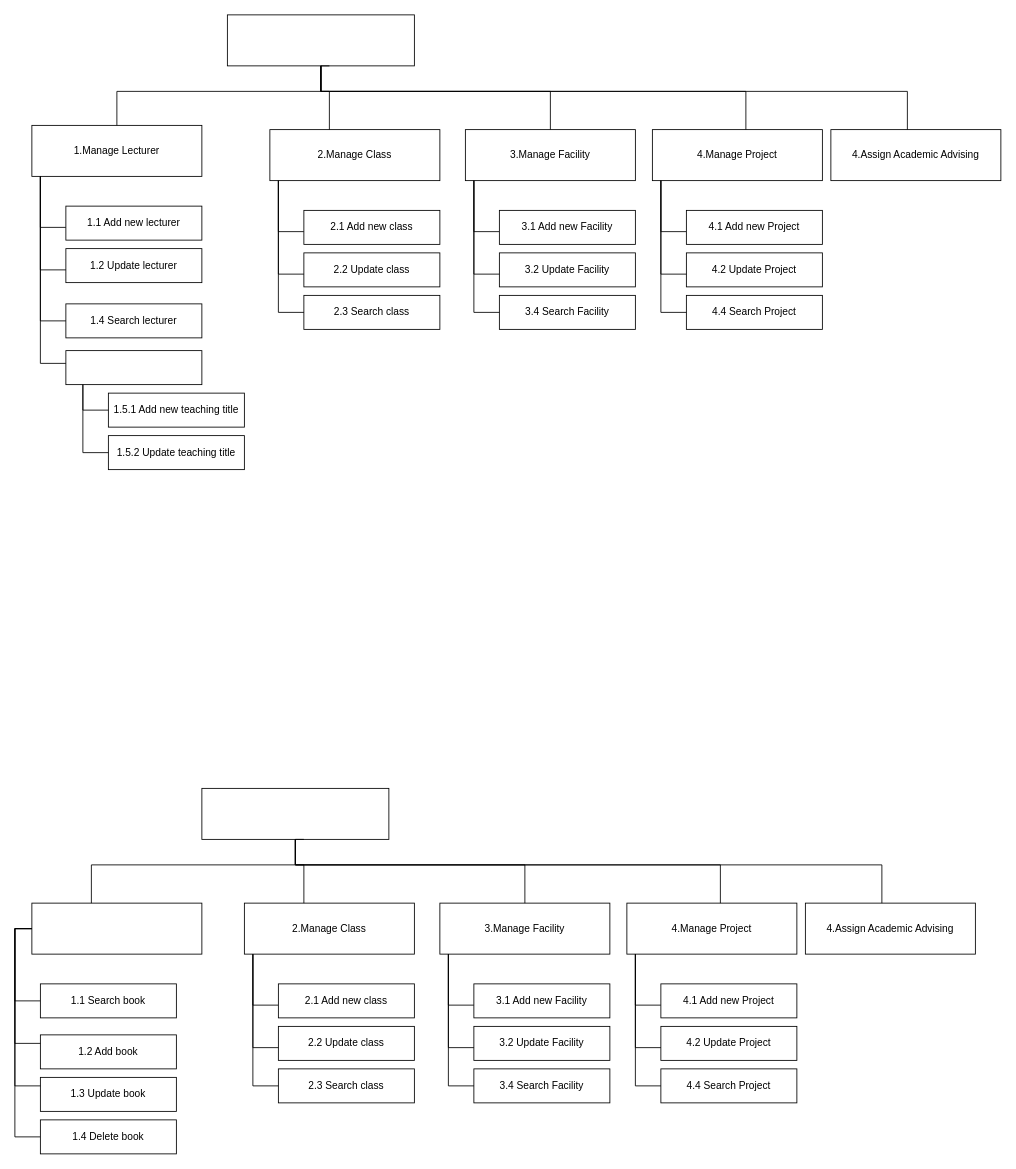
The diagram is 1016 pixels wide and 1169 high, and some of its shapes have lost their labels. The shapes that lost their labels are listed below. From the top down, each one's box as (x1, y1, x2, y2) in pixels, then its label:
(227, 14, 414, 66): TEACHING MANAGEMENT SYSTEM
(65, 350, 202, 385): 1.5 Manage teaching title
(201, 788, 389, 839): MANAGEMENT SYSTEM OF THE YOUTH BOOKSTORE
(31, 902, 202, 954): 1. Manage book
